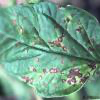Tomato Septoria leaf spot: (0, 3, 98, 98)
